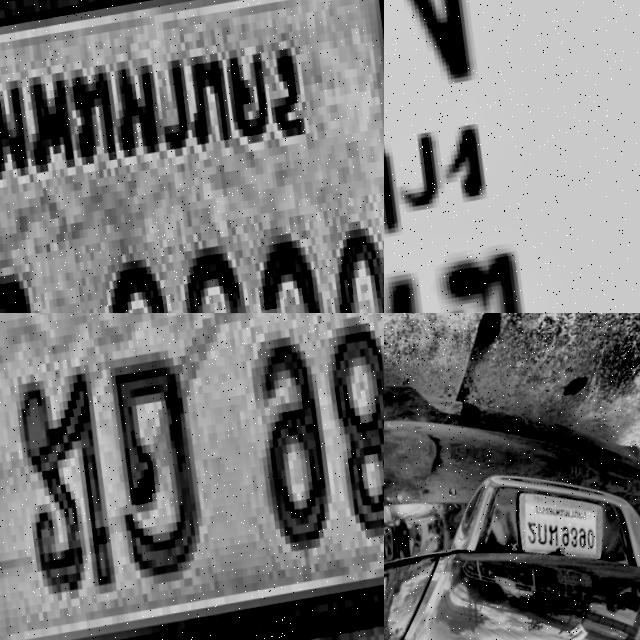license-plate: (0, 313, 384, 640), (0, 0, 384, 313), (384, 0, 640, 313), (514, 479, 612, 577)
